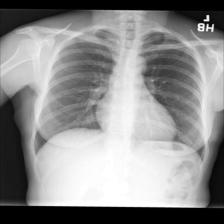normal: (27, 22, 210, 168)
